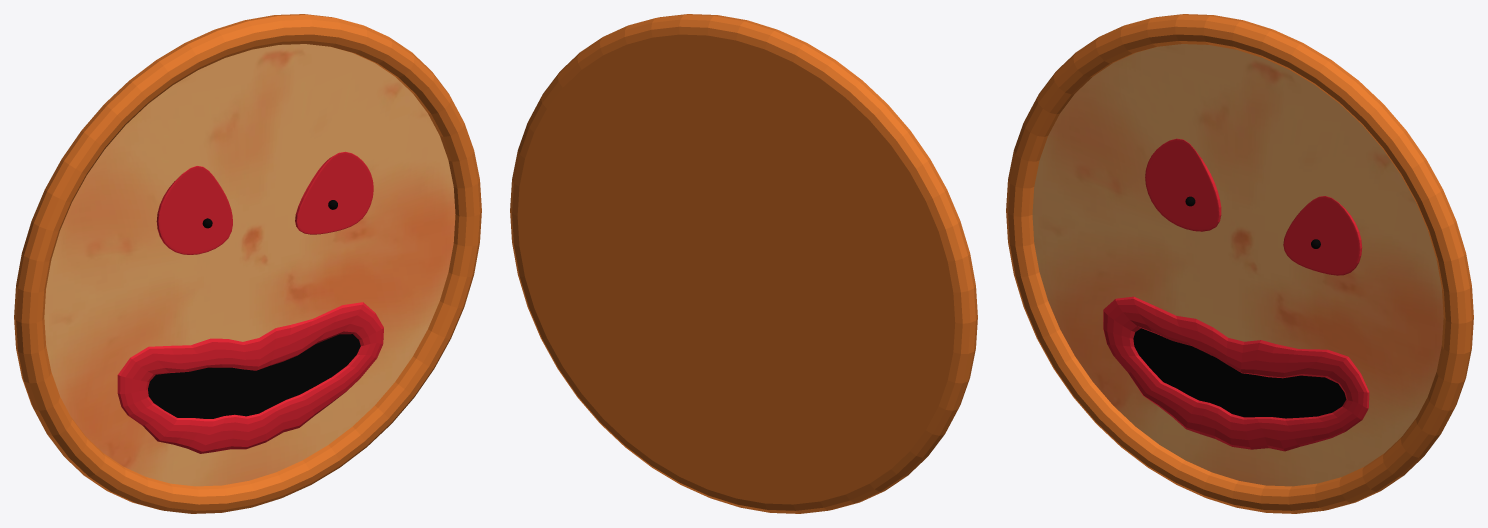
The model's file is pizzaMonster.glb.
3 renders of one model, left to right at view 1: azimuth 30°, elevation 25°; view 2: azimuth 150°, elevation 25°; view 3: azimuth 330°, elevation 25°, orthographic.
Parts seen in each view (by area): view 1: Pie, Crust, Lips, Eye_Right, Eye_Left; view 2: Crust; view 3: Pie, Crust, Lips, Eye_Right, Eye_Left.
Boxes of the visible parts, x1=… form: Pie: x1=44, y1=44, x2=455, y2=486; Crust: x1=14, y1=14, x2=481, y2=513; Lips: x1=117, y1=302, x2=383, y2=453; Eye_Right: x1=156, y1=166, x2=232, y2=254; Eye_Left: x1=295, y1=151, x2=373, y2=234; Crust: x1=510, y1=14, x2=977, y2=513; Pie: x1=1032, y1=44, x2=1443, y2=486; Crust: x1=1006, y1=14, x2=1473, y2=513; Lips: x1=1103, y1=296, x2=1369, y2=451; Eye_Right: x1=1145, y1=138, x2=1221, y2=231; Eye_Left: x1=1283, y1=196, x2=1362, y2=275.
Size of the model in its own units: 1.06 by 1.06 by 0.06.
Materials: 4 (1 with a texture image).
